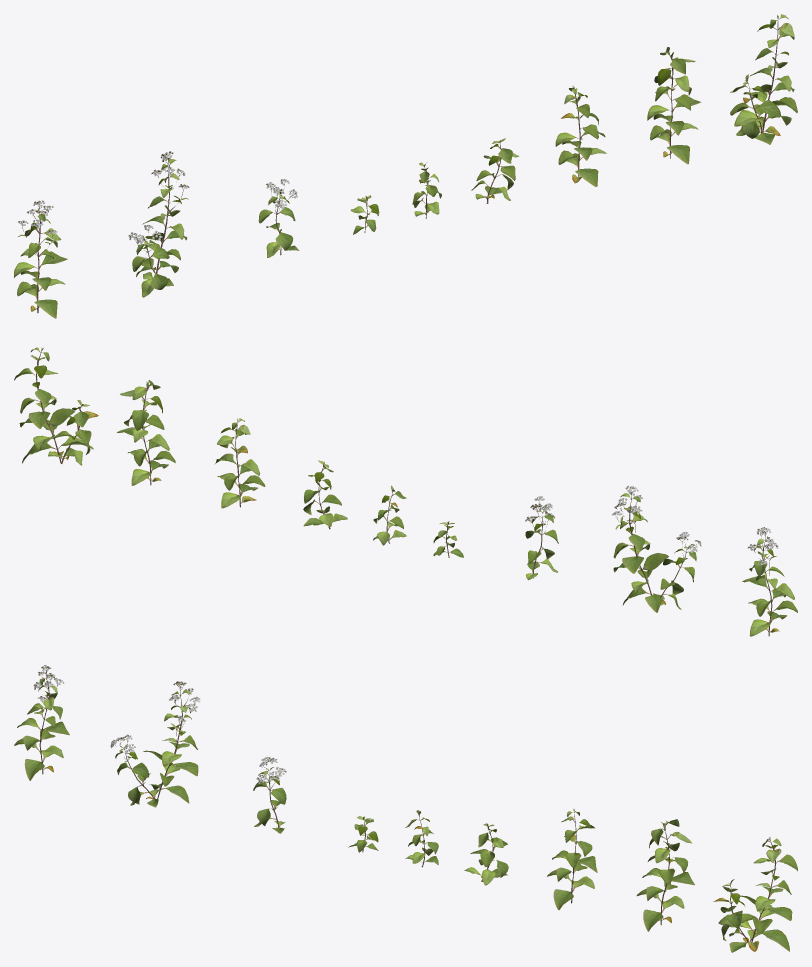
The model's file is shrub_01.glb.
3 views of the same model, one above another, from view 1: azimuth 30°, elevation 25°; view 2: azimuth 150°, elevation 25°; view 3: azimuth 330°, elevation 25° (orthographic). The views are drawn at different scales.
Parts seen in each view (by area): view 1: shrub_01_a; view 2: shrub_01_a; view 3: shrub_01_a.
Part boxes in pixels (x1,y1,x2,y2): shrub_01_a: [14, 14, 797, 318]; shrub_01_a: [14, 347, 797, 636]; shrub_01_a: [14, 665, 797, 952].
Size of the model in its own units: 2.59 by 0.3956 by 0.2185.
Materials: 1 (1 with a texture image).
